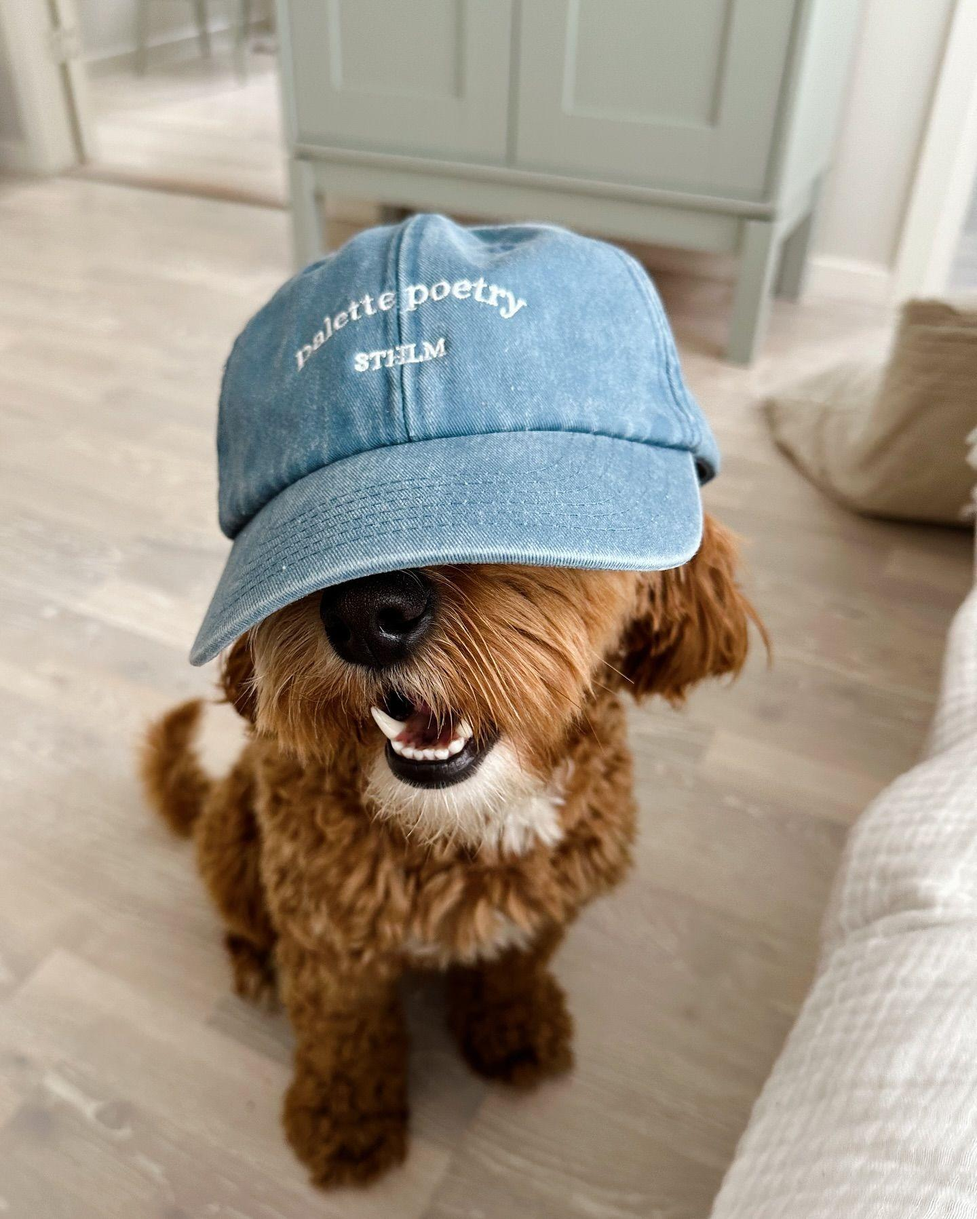adult_dog: (136, 501, 770, 1193)
